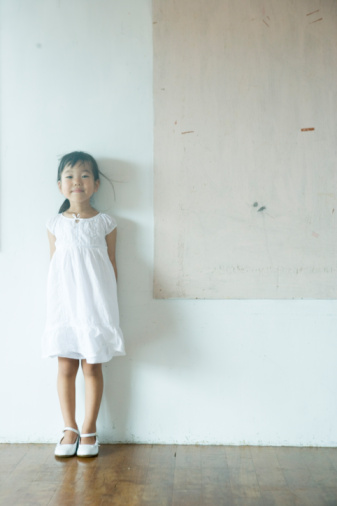em pe: (34, 143, 129, 476)
